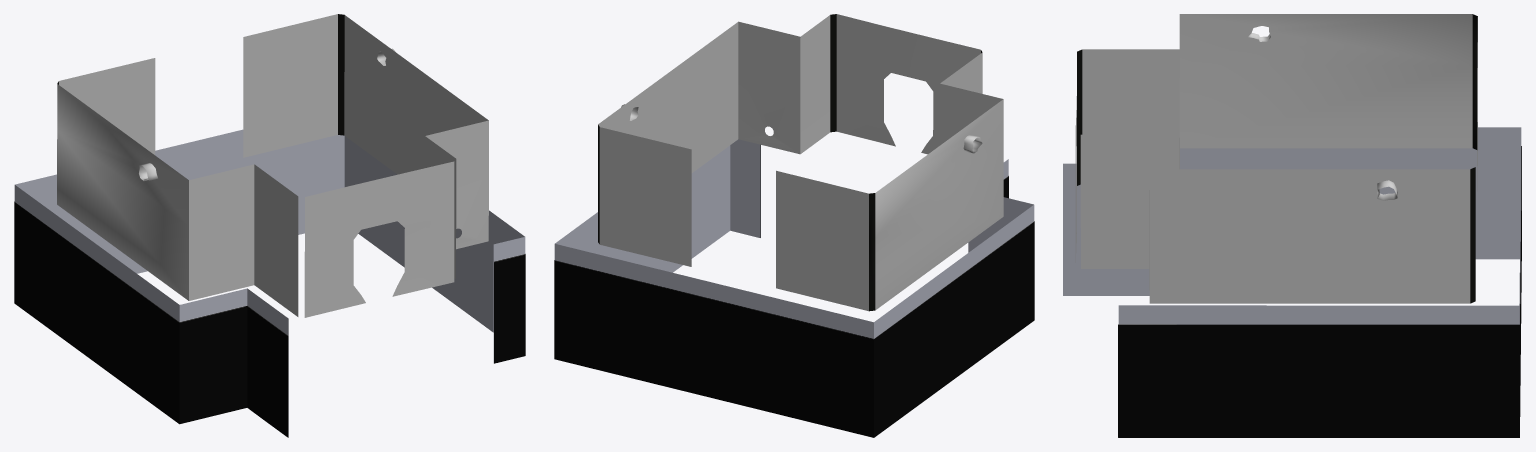
File: TourFini_Correction.fbx
3 views of the same model, side by side, from view 1: azimuth 30°, elevation 25°; view 2: azimuth 150°, elevation 25°; view 3: azimuth 270°, elevation 25° (orthographic). The views are drawn at different scales.
Parts seen in each view (by area): view 1: Salle1.002, Sol_022.001, Sol_022; view 2: Salle1.002, Sol_022.001, Sol_022; view 3: Salle1.002, Sol_022.001, Sol_022.
Part boxes in pixels (<box>): Salle1.002: <box>57,14,488,317</box>; Sol_022.001: <box>14,201,525,437</box>; Sol_022: <box>14,129,525,437</box>; Salle1.002: <box>598,14,1003,311</box>; Sol_022.001: <box>554,145,1034,437</box>; Sol_022: <box>554,139,1034,338</box>; Salle1.002: <box>1075,14,1477,303</box>; Sol_022.001: <box>1118,146,1521,437</box>; Sol_022: <box>1063,127,1521,324</box>.
Size of the model in its own units: 2970 by 1986 by 3219.
